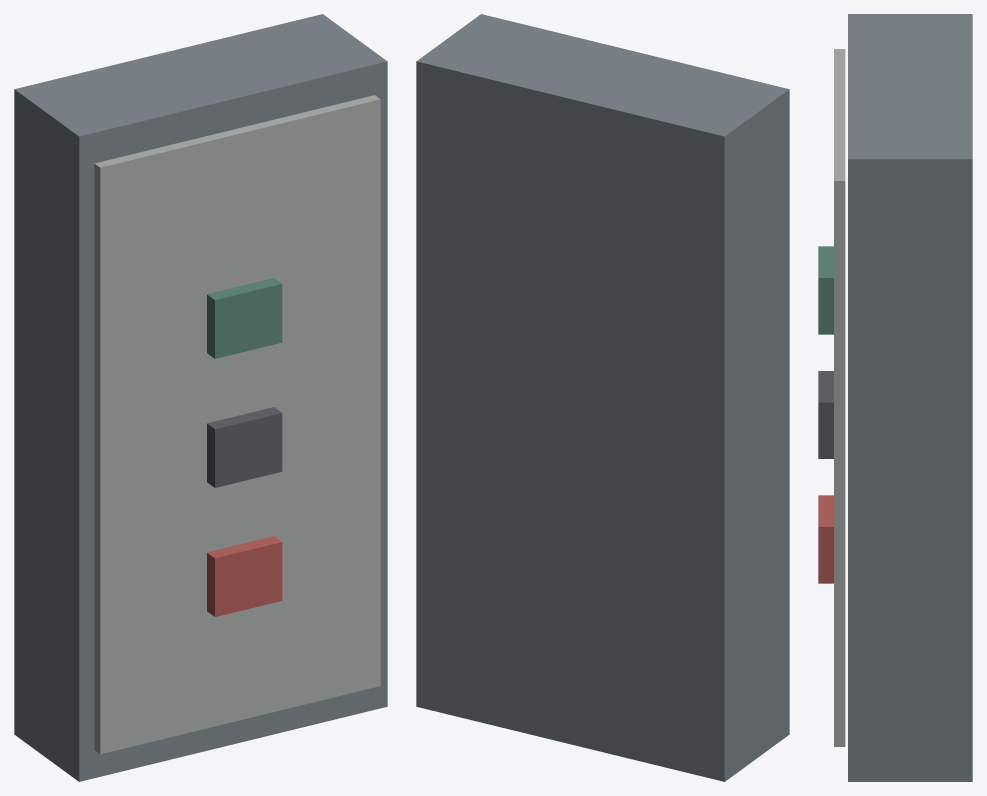
The model's file is BSM-007.glb.
3 renders of one model, left to right at view 1: azimuth 30°, elevation 25°; view 2: azimuth 150°, elevation 25°; view 3: azimuth 270°, elevation 25°, orthographic. The views are drawn at different scales.
Parts seen in each view (by area): view 1: 001_Front_face, 000_Panel_cabinet, 004_Switch, 002_Switch, 003_Switch; view 2: 000_Panel_cabinet; view 3: 000_Panel_cabinet, 001_Front_face, 002_Switch, 004_Switch, 003_Switch.
Part boxes in pixels (x1,y1,x2,y2): 001_Front_face: (94,95,380,754); 000_Panel_cabinet: (14,14,387,781); 004_Switch: (207,278,282,358); 002_Switch: (207,536,282,616); 003_Switch: (207,407,282,487); 000_Panel_cabinet: (416,14,789,781); 000_Panel_cabinet: (848,14,972,781); 001_Front_face: (834,49,845,746); 002_Switch: (818,495,833,583); 004_Switch: (818,246,833,334); 003_Switch: (818,371,833,458).
Size of the model in its own units: 0.55 by 1.1 by 0.2475.
